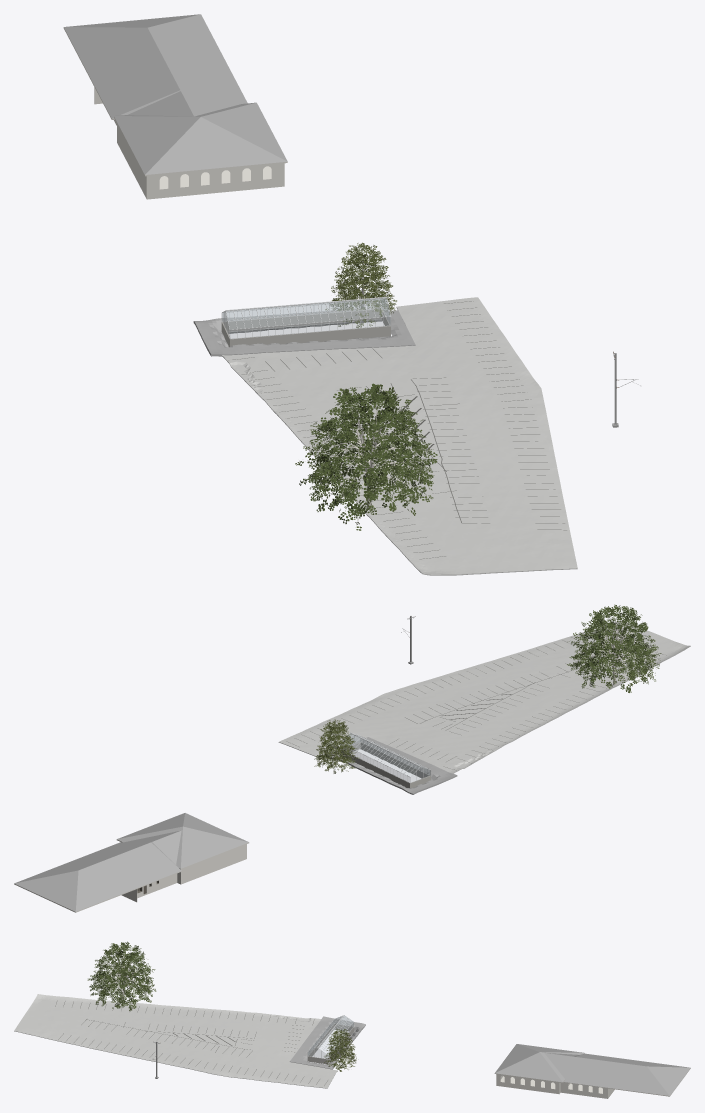
3 renders of one model, top to bottom at view 1: azimuth 30°, elevation 25°; view 2: azimuth 150°, elevation 25°; view 3: azimuth 270°, elevation 25°, orthographic. The views are drawn at different scales.
Visible parts, largest first — view 1: KQ Lot 28S asphalt + ortho paint (OSM 313031565; UNVERIFIED), Children's Center roof S pavilion hip (eave 114.75 / ridge 1, NT_LondonPlane_0122, Greenhouse_Gable_ShadeGlazed_MSU, Children's Center W_spine_S walls (eave 114.75 m LiDAR; +-1 , GH_pad_ground_only_UNVERIFIED, NT_PinOak_0329, KR Lot 28S stall stripes (2020 ortho trace; UNVERIFIED); view 2: KQ Lot 28S asphalt + ortho paint (OSM 313031565; UNVERIFIED), Children's Center roof S pavilion hip (eave 114.75 / ridge 1, NT_LondonPlane_0122, Greenhouse_Gable_ShadeGlazed_MSU, Children's Center W_spine_S walls (eave 114.75 m LiDAR; +-1 , NT_PinOak_0329, GH_pad_ground_only_UNVERIFIED, KR Lot 28S stall stripes (2020 ortho trace; UNVERIFIED); view 3: KQ Lot 28S asphalt + ortho paint (OSM 313031565; UNVERIFIED), Children's Center roof S pavilion hip (eave 114.75 / ridge 1, NT_LondonPlane_0122, Children's Center W_spine_S walls (eave 114.75 m LiDAR; +-1 , GH_pad_ground_only_UNVERIFIED, Greenhouse_Gable_ShadeGlazed_MSU, NT_PinOak_0329, KR Lot 28S stall stripes (2020 ortho trace; UNVERIFIED).
Part boxes in pixels (x1,y1,x2,y2): KQ Lot 28S asphalt + ortho paint (OSM 313031565; UNVERIFIED): (221,297,577,575); Children's Center roof S pavilion hip (eave 114.75 / ridge 1: (63,14,287,176); NT_LondonPlane_0122: (295,383,437,530); Greenhouse_Gable_ShadeGlazed_MSU: (221,297,390,346); Children's Center W_spine_S walls (eave 114.75 m LiDAR; +-1 : (94,87,284,199); GH_pad_ground_only_UNVERIFIED: (193,308,415,356); NT_PinOak_0329: (325,242,396,327); KR Lot 28S stall stripes (2020 ortho trace; UNVERIFIED): (228,301,566,559); KQ Lot 28S asphalt + ortho paint (OSM 313031565; UNVERIFIED): (278,620,690,773); Children's Center roof S pavilion hip (eave 114.75 / ridge 1: (14,813,249,912); NT_LondonPlane_0122: (567,604,661,692); Greenhouse_Gable_ShadeGlazed_MSU: (340,732,430,787); Children's Center W_spine_S walls (eave 114.75 m LiDAR; +-1 : (121,844,246,902); NT_PinOak_0329: (314,719,358,773); GH_pad_ground_only_UNVERIFIED: (325,737,457,794); KR Lot 28S stall stripes (2020 ortho trace; UNVERIFIED): (286,637,666,770); KQ Lot 28S asphalt + ortho paint (OSM 313031565; UNVERIFIED): (14,994,337,1088); Children's Center roof S pavilion hip (eave 114.75 / ridge 1: (494,1044,690,1096); NT_LondonPlane_0122: (87,941,156,1011); Children's Center W_spine_S walls (eave 114.75 m LiDAR; +-1 : (496,1074,614,1098); GH_pad_ground_only_UNVERIFIED: (289,1016,365,1069); Greenhouse_Gable_ShadeGlazed_MSU: (307,1015,354,1064); NT_PinOak_0329: (324,1028,356,1071); KR Lot 28S stall stripes (2020 ortho trace; UNVERIFIED): (55,1000,327,1085).
Size of the model in its own units: 79.17 by 23.93 by 211.
Materials: 22 (2 with a texture image).
